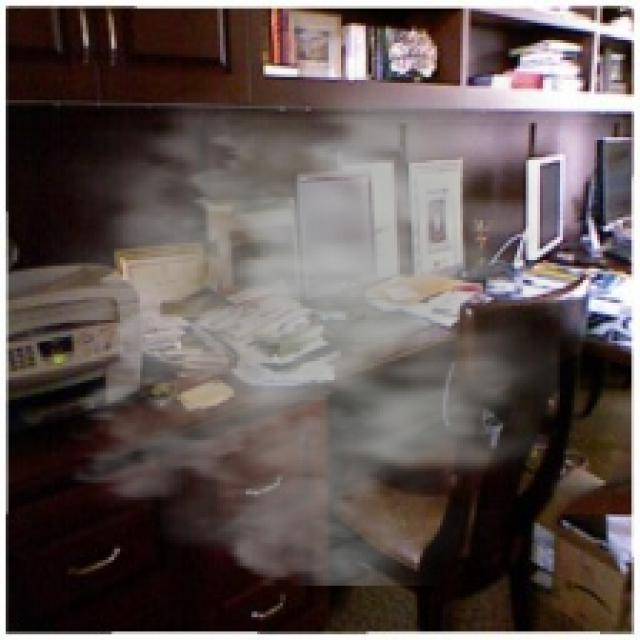smoke: (20, 57, 560, 586)
